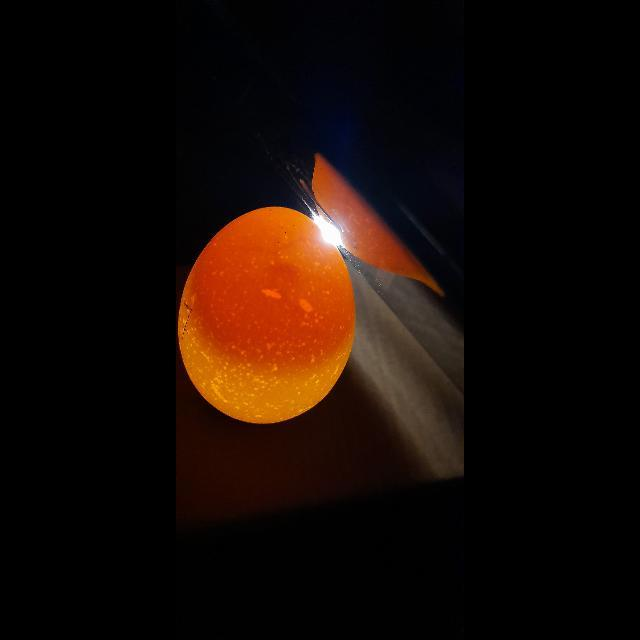Fertile: (180, 188, 352, 444)
